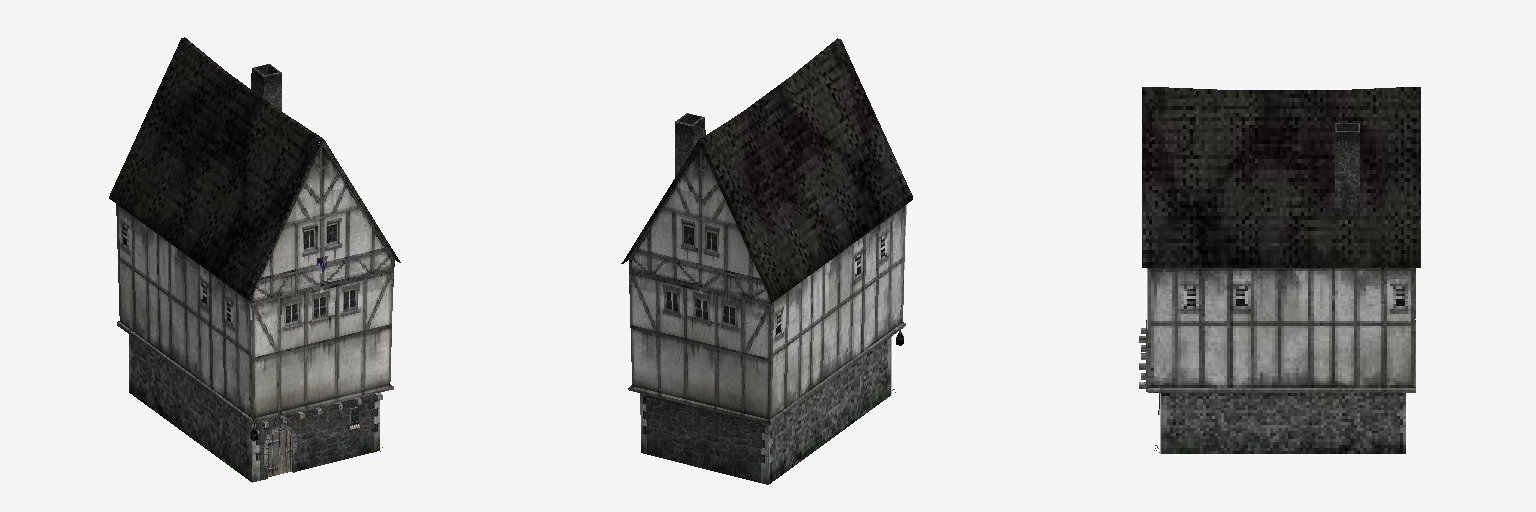
3 views of the same model, side by side, from view 1: azimuth 30°, elevation 25°; view 2: azimuth 150°, elevation 25°; view 3: azimuth 270°, elevation 25° (orthographic).
Visible parts, largest first — view 1: obj0; view 2: obj0; view 3: obj0.
Part boxes in pixels (left/top/right/bottom): obj0: left=109, top=37, right=400, bottom=482; obj0: left=621, top=38, right=912, bottom=484; obj0: left=1139, top=87, right=1420, bottom=453.
Bounding box in the file's own units: 8.45 × 17.64 × 13.44.
21 materials, 9 textured.